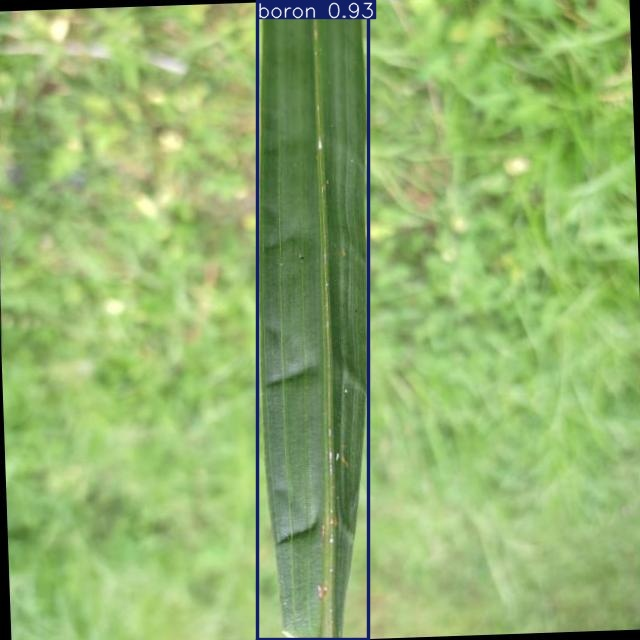nitrogen: (258, 0, 369, 640)
